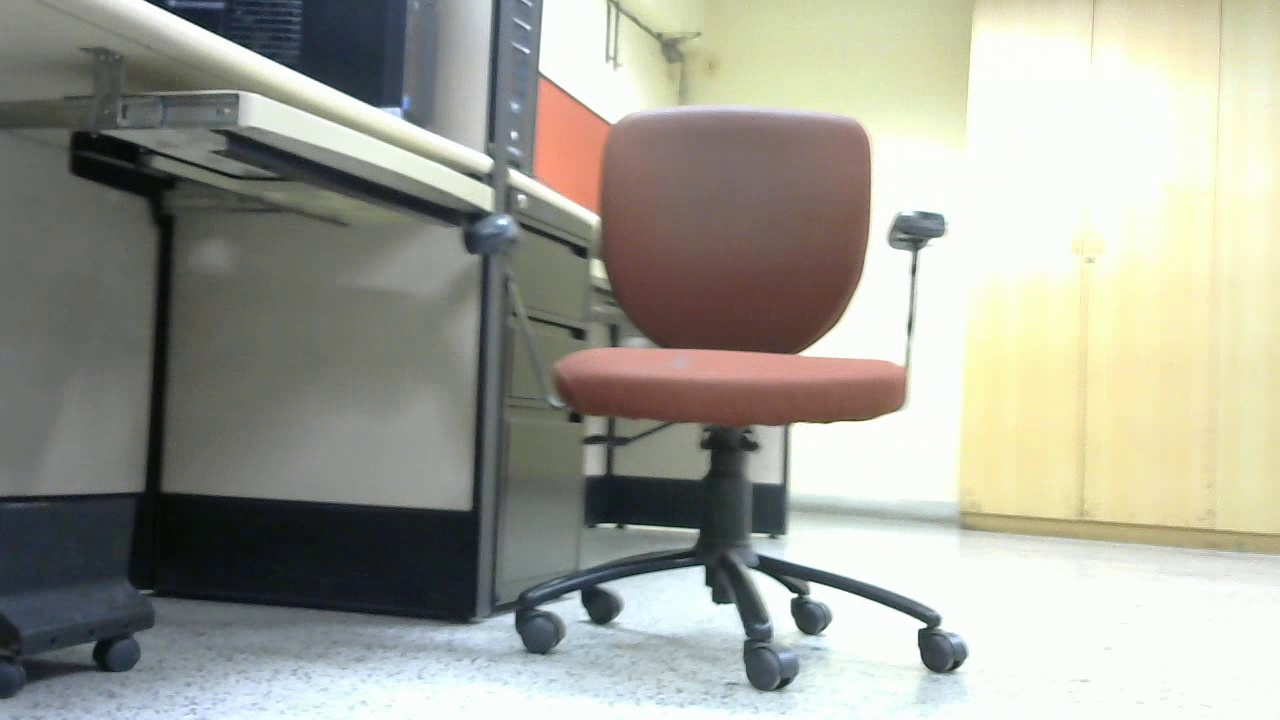chair: (439, 212, 686, 538), (75, 169, 265, 499)
